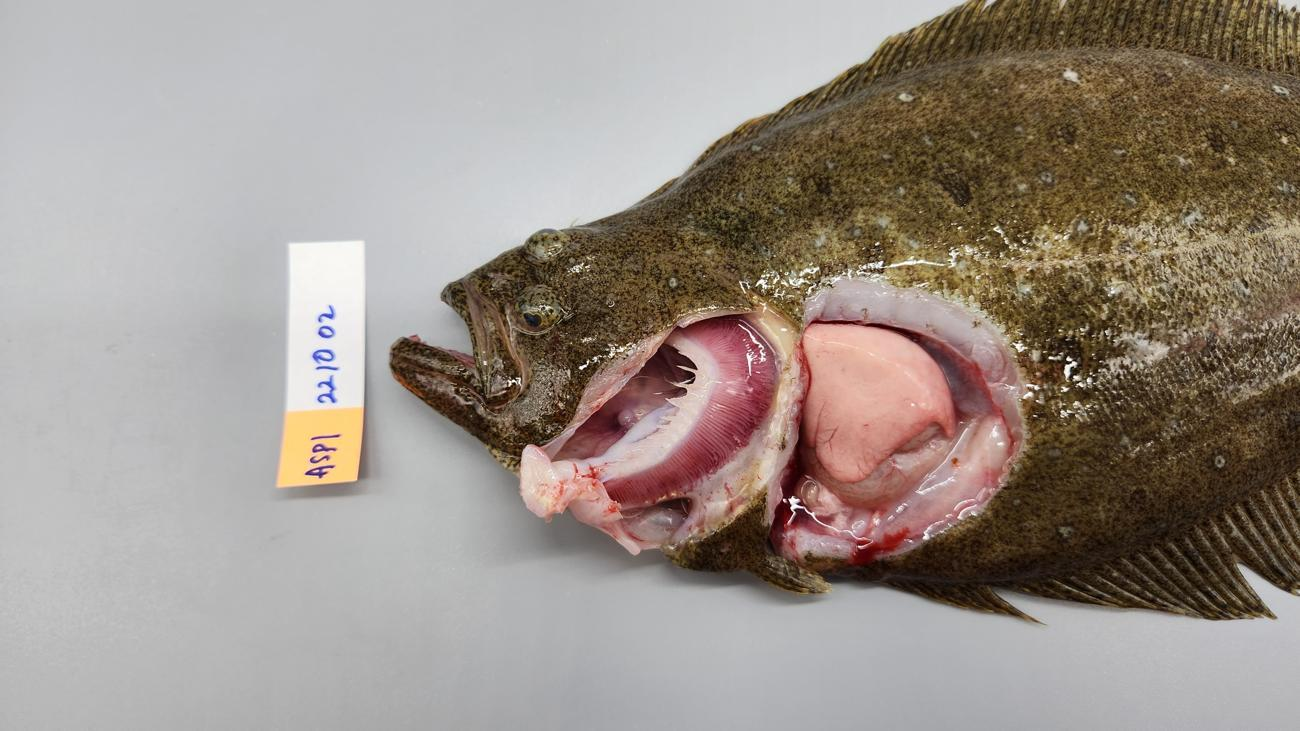SPGIP: (604, 316, 778, 504)
